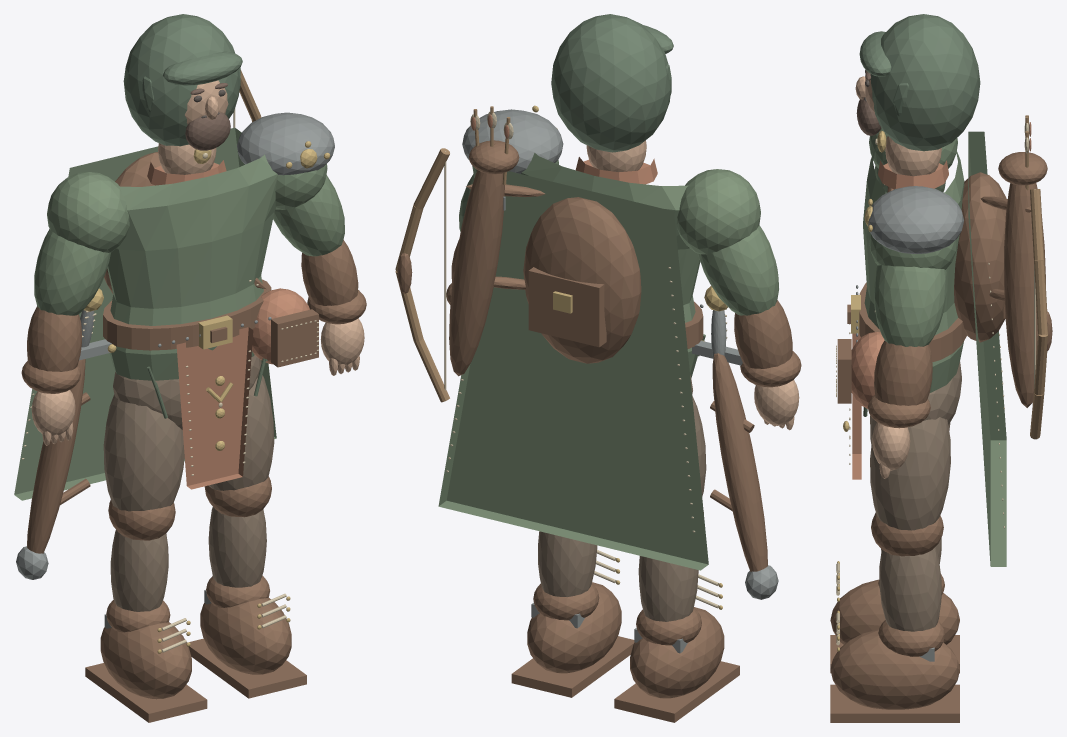
The model's file is medieval_wanderer.glb.
3 renders of one model, left to right at view 1: azimuth 30°, elevation 25°; view 2: azimuth 150°, elevation 25°; view 3: azimuth 270°, elevation 25°, orthographic. The views are drawn at different scales.
Parts seen in each view (by area): view 1: tunic_surface, leather_surface, trousers_surface, trim_surface, hood_surface, skin_surface, iron_surface, brass_surface, hair_surface, thread_surface; view 2: tunic_surface, leather_surface, hood_surface, trousers_surface, iron_surface, wood_surface, skin_surface, thread_surface, trim_surface, brass_surface; view 3: leather_surface, tunic_surface, hood_surface, trousers_surface, iron_surface, trim_surface, skin_surface, wood_surface, brass_surface, thread_surface, hair_surface.
Boxes of the visible parts, left/top/right/bottom form: tunic_surface: left=14, top=127, right=344, bottom=500; leather_surface: left=21, top=152, right=366, bottom=722; trousers_surface: left=103, top=355, right=274, bottom=611; trim_surface: left=147, top=160, right=309, bottom=489; hood_surface: left=123, top=14, right=242, bottom=146; skin_surface: left=31, top=80, right=364, bottom=445; iron_surface: left=16, top=112, right=334, bottom=628; brass_surface: left=84, top=141, right=330, bottom=653; hair_surface: left=185, top=83, right=230, bottom=150; thread_surface: left=22, top=108, right=318, bottom=652; tunic_surface: left=438, top=153, right=778, bottom=570; leather_surface: left=397, top=140, right=801, bottom=722; hood_surface: left=551, top=14, right=673, bottom=152; trousers_surface: left=538, top=374, right=706, bottom=621; iron_surface: left=462, top=109, right=778, bottom=653; wood_surface: left=395, top=106, right=510, bottom=402; skin_surface: left=586, top=140, right=799, bottom=430; thread_surface: left=444, top=111, right=727, bottom=608; trim_surface: left=471, top=114, right=657, bottom=184; brass_surface: left=532, top=105, right=727, bottom=609; leather_surface: left=830, top=152, right=1052, bottom=722; tunic_surface: left=863, top=128, right=1006, bottom=566; hood_surface: left=859, top=14, right=980, bottom=151; trousers_surface: left=870, top=361, right=961, bottom=631; iron_surface: left=856, top=186, right=963, bottom=661; trim_surface: left=851, top=122, right=1031, bottom=479; skin_surface: left=855, top=71, right=941, bottom=478; wood_surface: left=1025, top=115, right=1048, bottom=439; brass_surface: left=837, top=130, right=886, bottom=651; thread_surface: left=836, top=123, right=1035, bottom=645; hair_surface: left=856, top=72, right=881, bottom=135.
Bounding box in the file's own units: 0.978 × 1.81 × 0.548.
